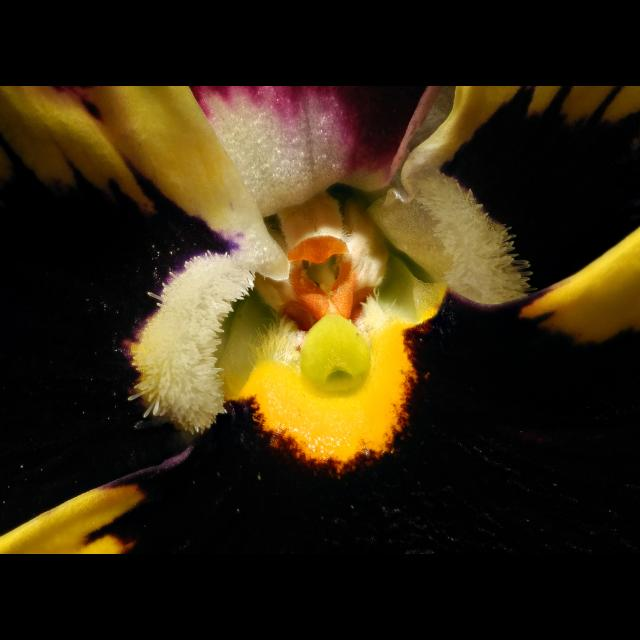Flower: (202, 183, 460, 477)
